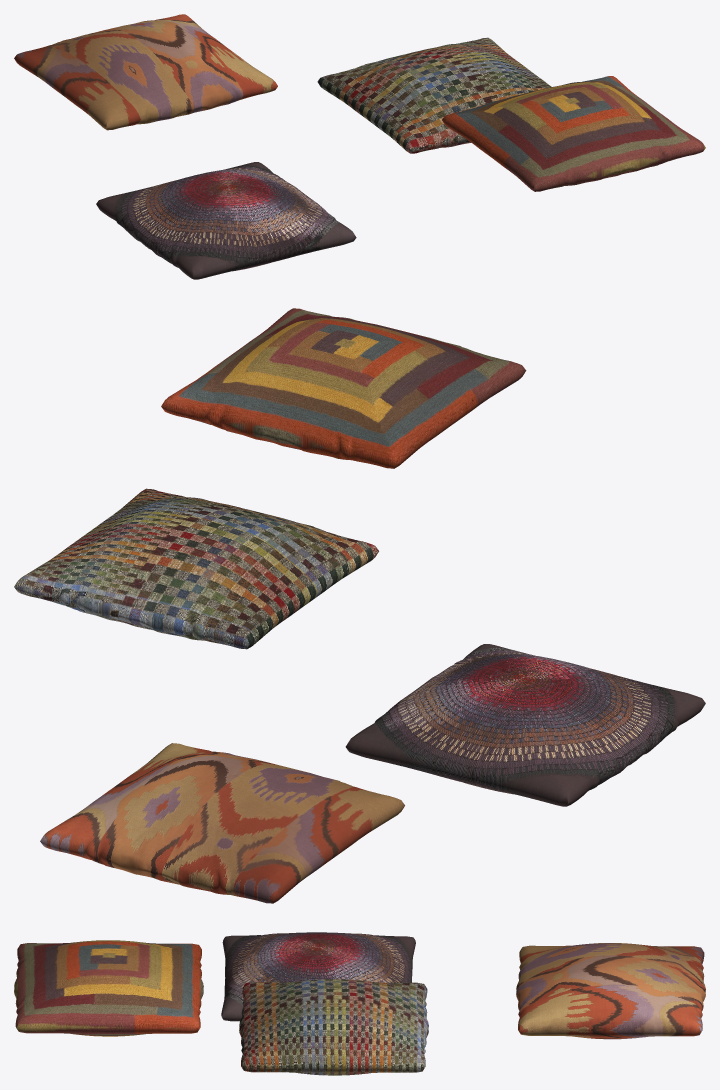
File: Pillows.fbx
3 views of the same model, one above another, from view 1: azimuth 30°, elevation 25°; view 2: azimuth 150°, elevation 25°; view 3: azimuth 270°, elevation 25° (orthographic). The views are drawn at different scales.
Parts seen in each view (by area): view 1: Group2, Group4, Group1, Group3; view 2: Group2, Group1, Group4, Group3; view 3: Group1, Group3, Group4, Group2.
Part boxes in pixels (bbox=[...]): Group2: bbox=[96, 162, 356, 279]; Group4: bbox=[14, 14, 277, 130]; Group1: bbox=[442, 76, 705, 191]; Group3: bbox=[317, 37, 551, 153]; Group2: bbox=[345, 644, 705, 806]; Group1: bbox=[161, 308, 526, 468]; Group4: bbox=[40, 743, 404, 903]; Group3: bbox=[14, 488, 378, 649]; Group1: bbox=[14, 940, 203, 1036]; Group3: bbox=[239, 979, 428, 1075]; Group4: bbox=[516, 943, 705, 1039]; Group2: bbox=[221, 932, 415, 1021].
Bounding box in the file's own units: 39.36 × 15.95 × 58.94.
